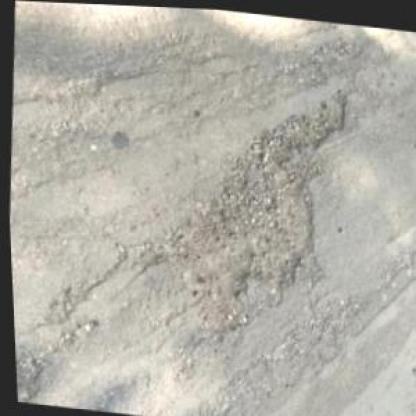pothole: (139, 121, 337, 350), (249, 78, 350, 152)
